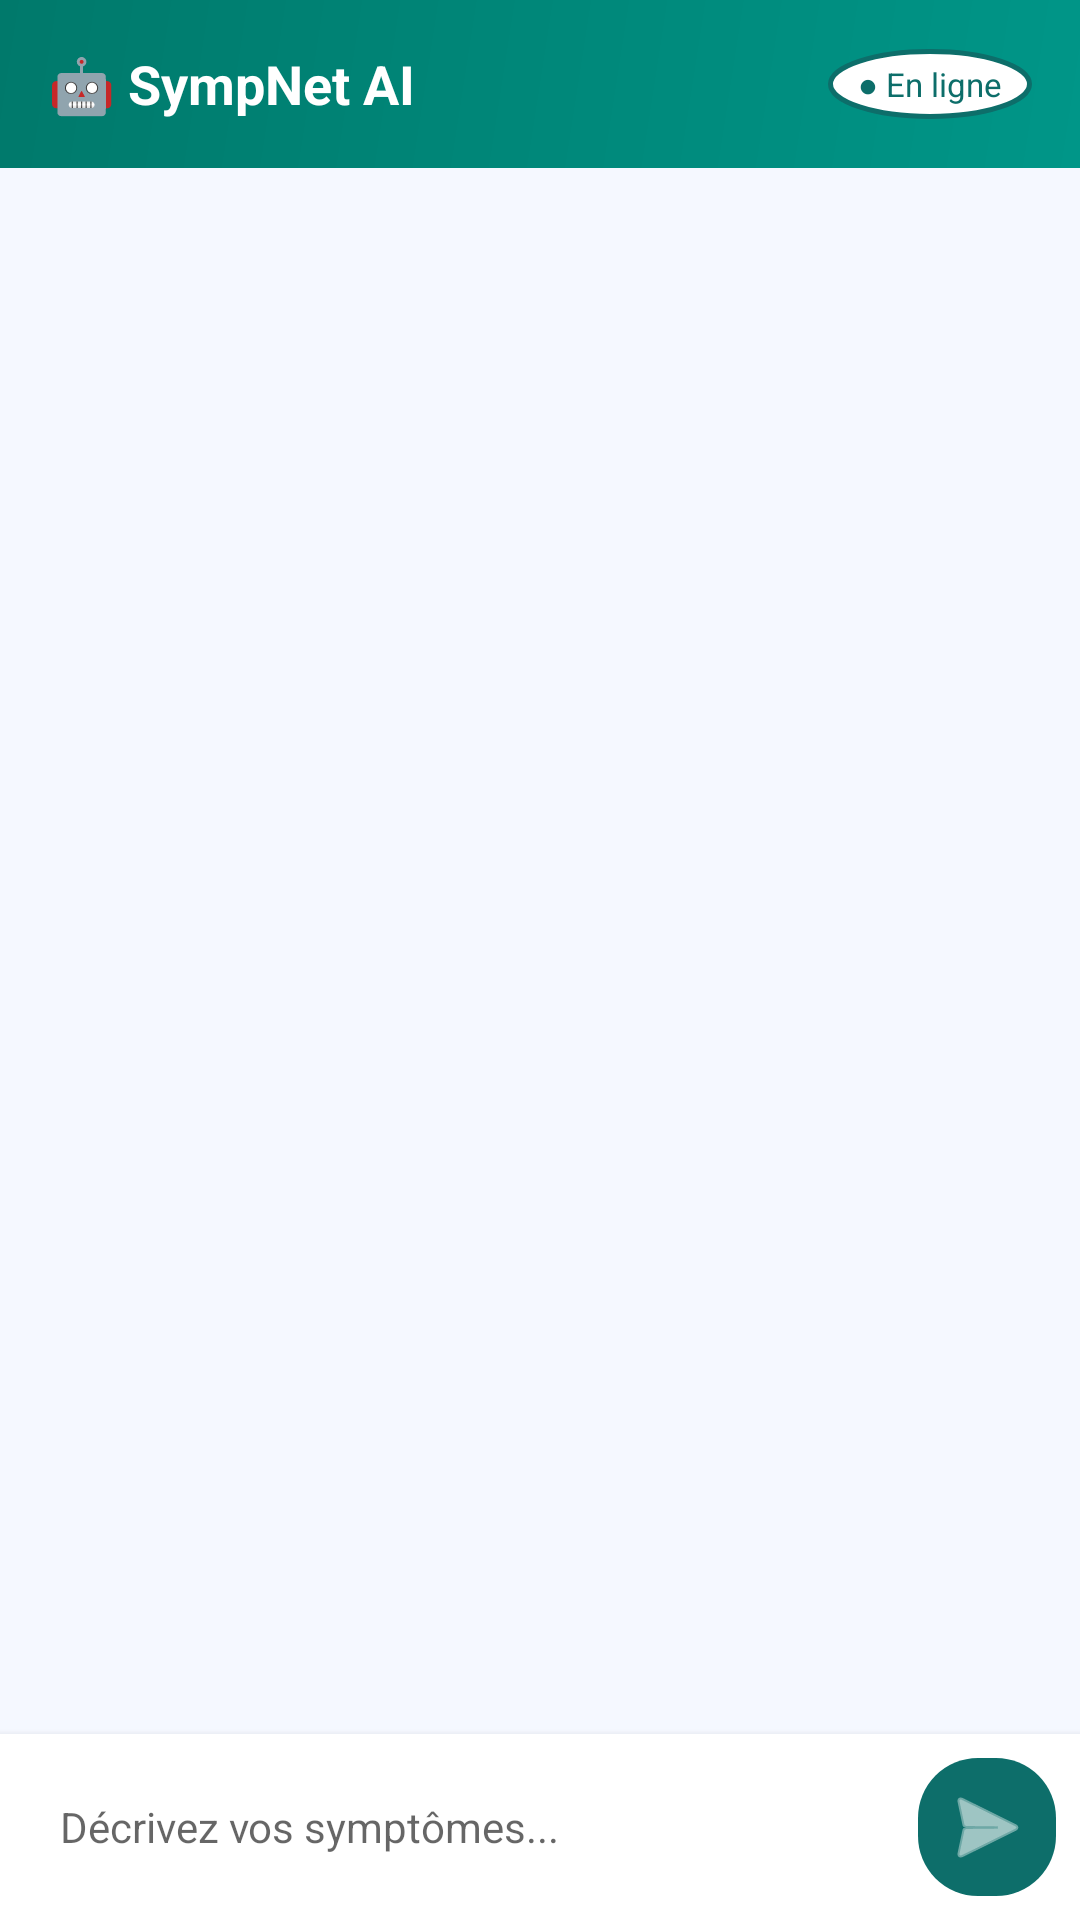

Point at icon controls on the screen. Image size 1080 x 1920, points as point (x, y).
send: point (987, 1827)
